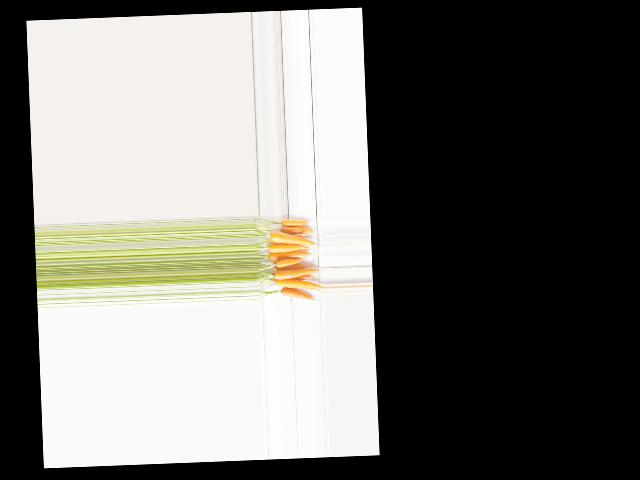carrot: (278, 215, 312, 230)
